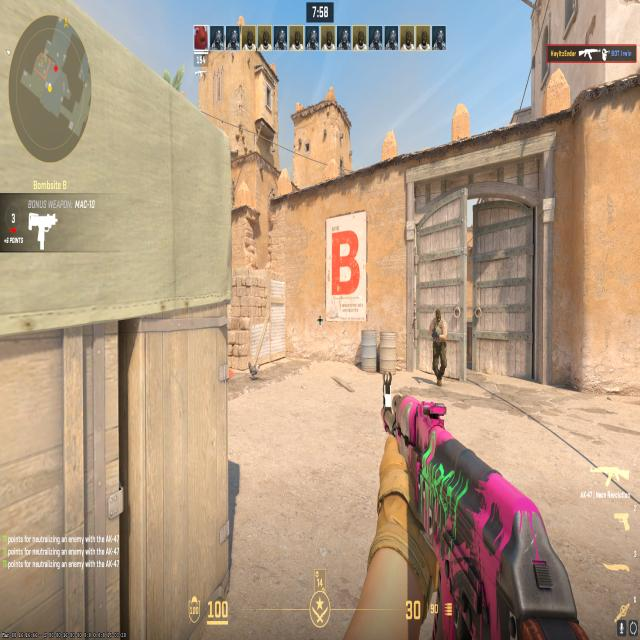t: (427, 306, 449, 386)
